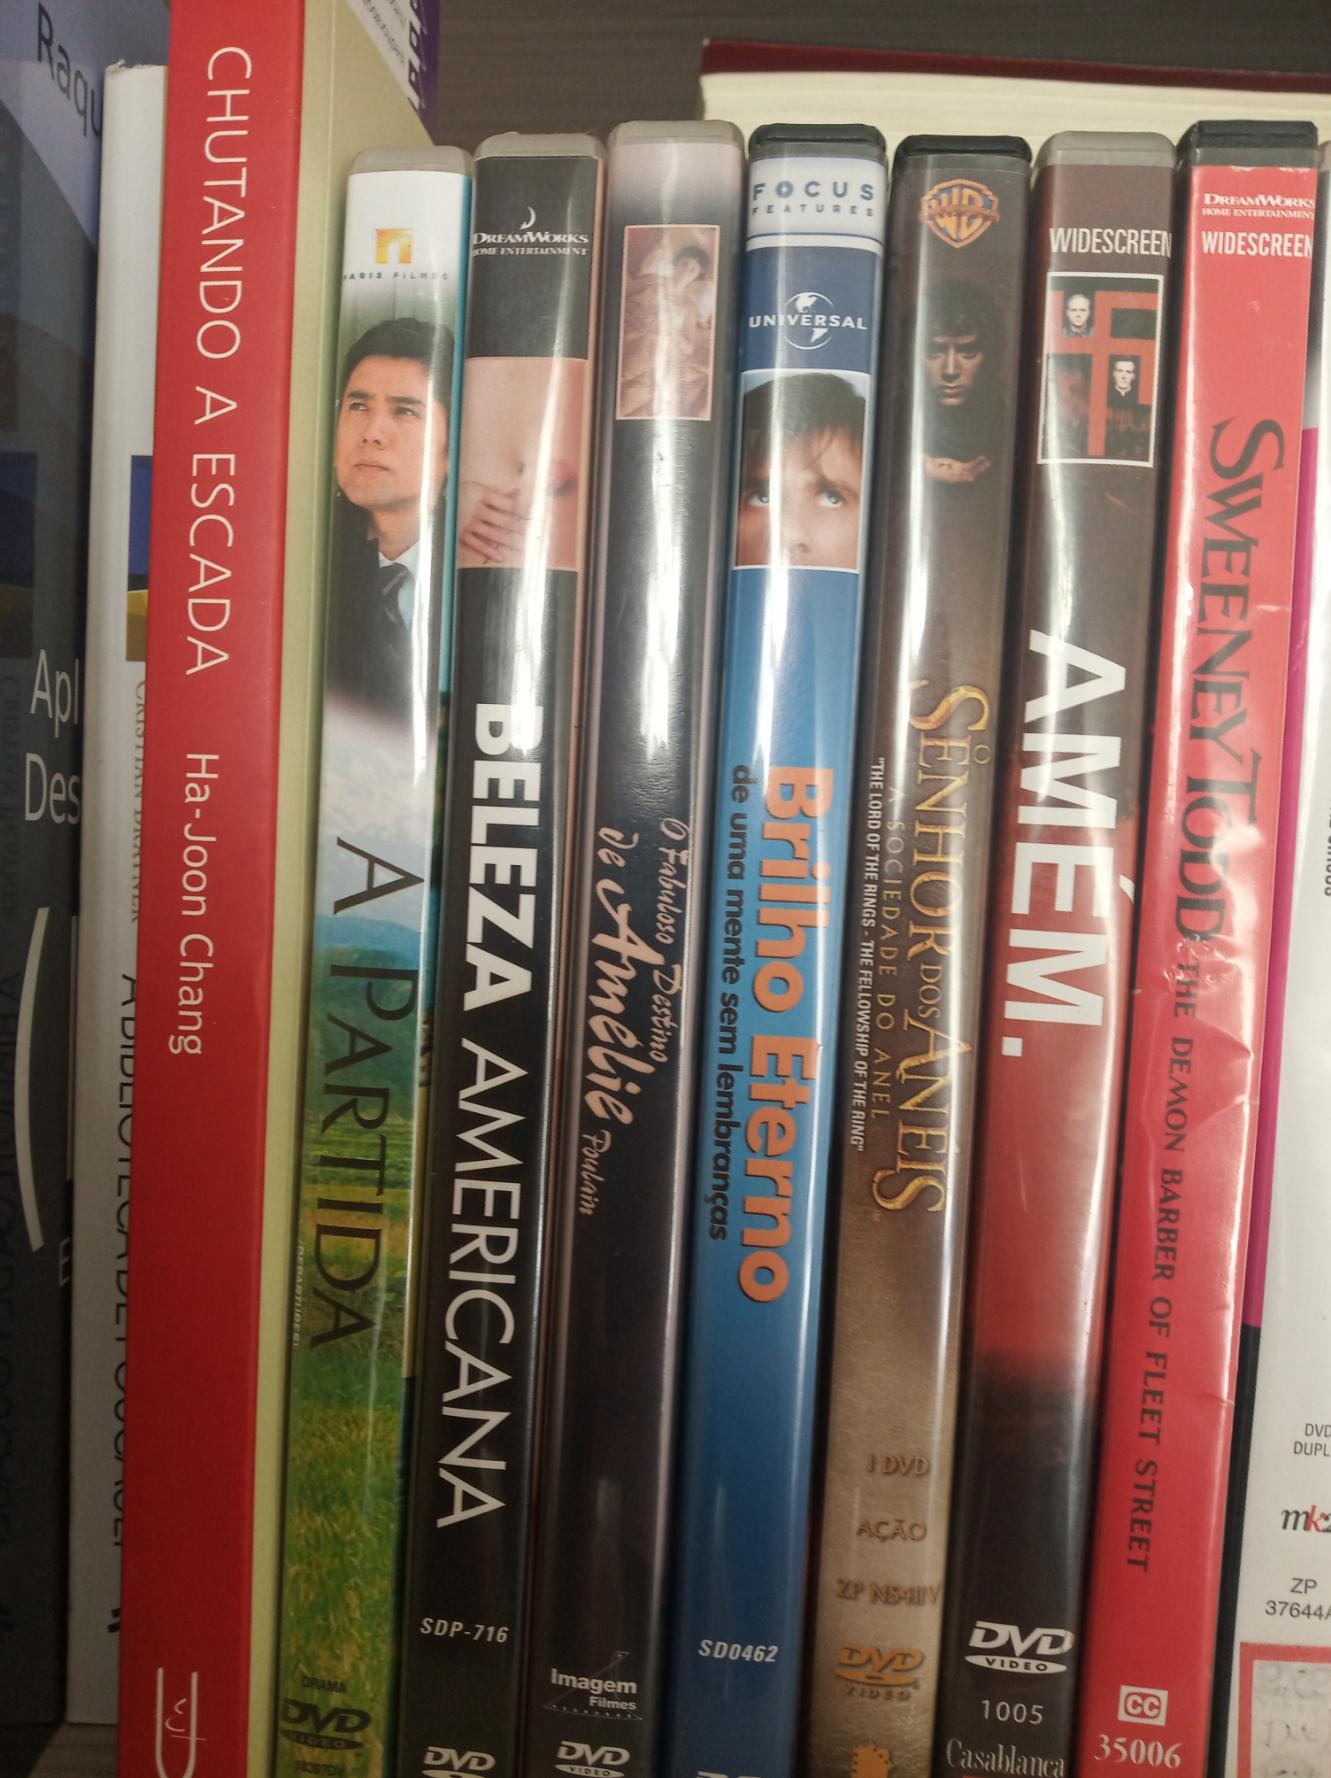book: (450, 138, 575, 1778), (75, 119, 124, 1723)
